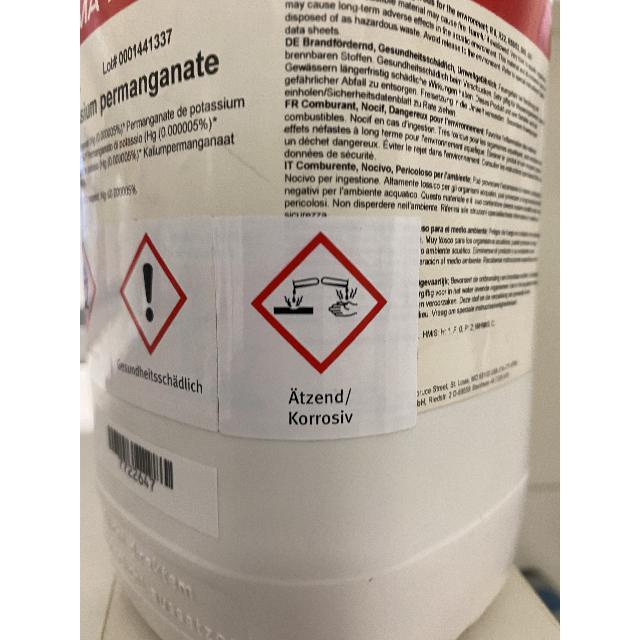corrosive: (274, 277, 388, 375)
health-ozone layer hazard: (142, 262, 154, 324)
